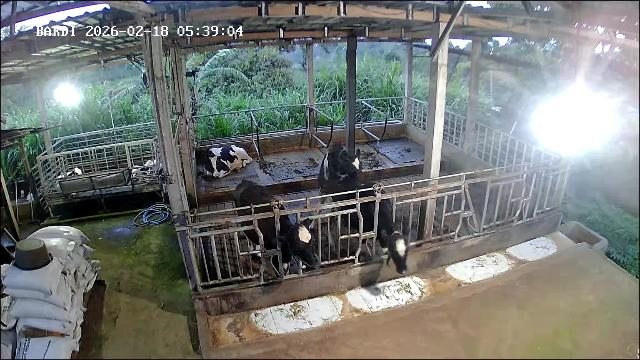mounting: (308, 143, 362, 228)
